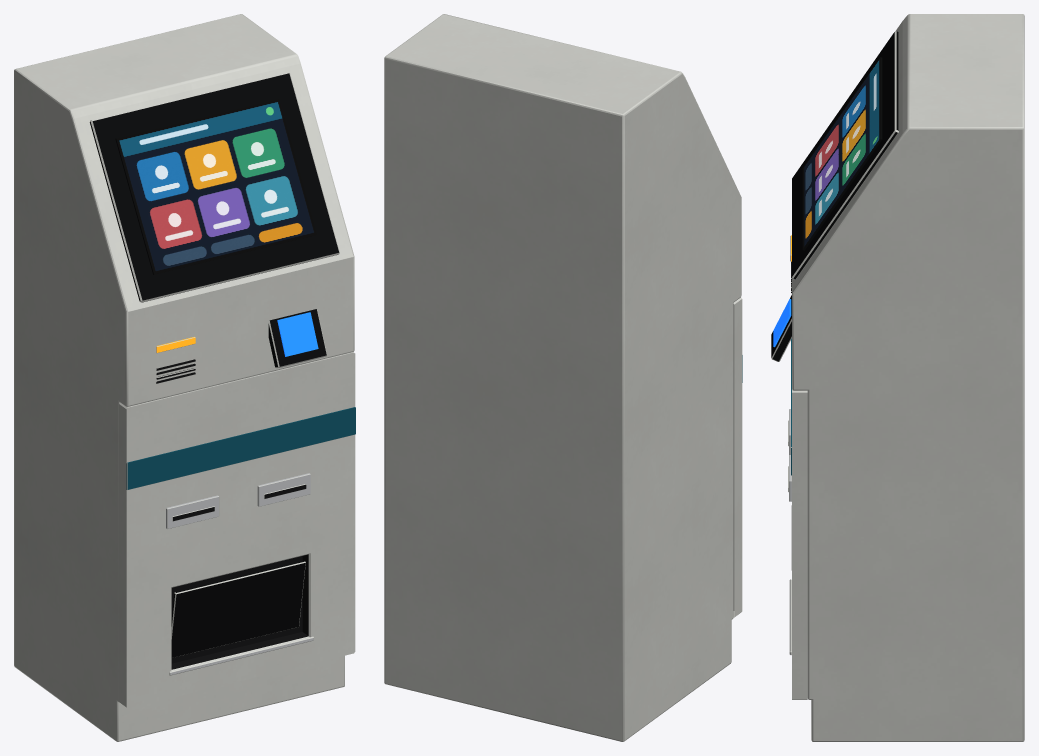
The model's file is gteki_ticket_kiosk.glb.
The picture shows the model from 3 angles, left to right: view 1: azimuth 30°, elevation 25°; view 2: azimuth 150°, elevation 25°; view 3: azimuth 270°, elevation 25°; orthographic projection. The views are drawn at different scales.
Parts seen in each view (by area): view 1: VIS_body, VIS_fascia, VIS_screen, VIS_details, VIS_pocket, VIS_pad; view 2: VIS_body, VIS_fascia; view 3: VIS_body, VIS_screen, VIS_fascia, VIS_details.
Part boxes in pixels (<box>): VIS_body: <box>14,14,354,741</box>; VIS_fascia: <box>119,352,355,708</box>; VIS_screen: <box>89,72,339,302</box>; VIS_details: <box>126,309,355,528</box>; VIS_pocket: <box>169,556,313,675</box>; VIS_pad: <box>277,312,318,356</box>; VIS_body: <box>384,14,741,741</box>; VIS_fascia: <box>733,297,742,617</box>; VIS_body: <box>792,14,1024,741</box>; VIS_screen: <box>792,31,898,279</box>; VIS_fascia: <box>792,389,807,699</box>; VIS_details: <box>771,235,791,501</box>.
Size of what is drawn, in the model's own units: 0.7 by 1.75 by 0.6533.
Materials: 8 (2 with a texture image).
